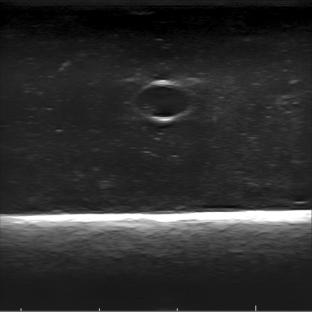vessel: (133, 79, 194, 122)
